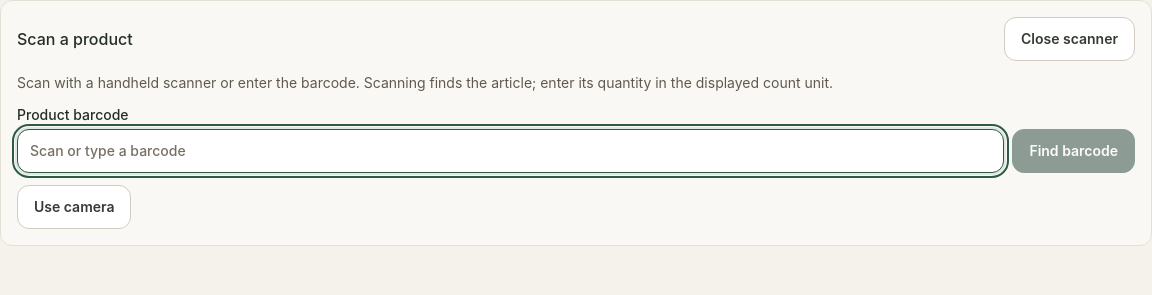
Test case: retains manual entry after the user declines camera access
Click the button "Use camera": (74, 207) [17, 185, 132, 229]
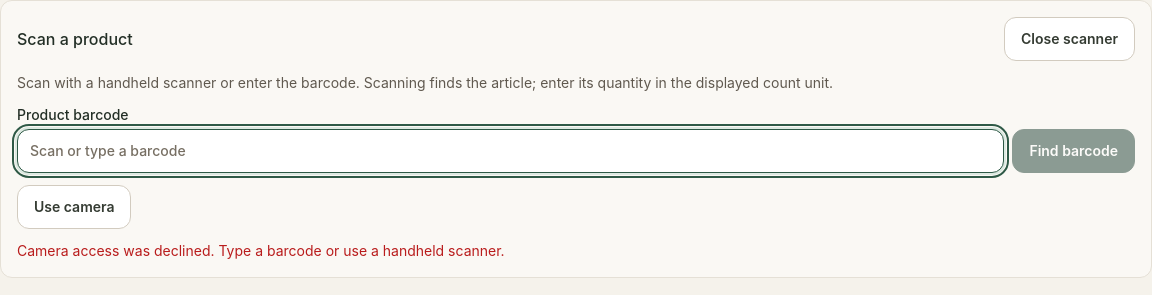
Expected: the field labelled "Product barcode" is enabled, [17, 129, 1004, 173]
Expected: the message shows "Camera access was declined", [17, 242, 505, 259]
